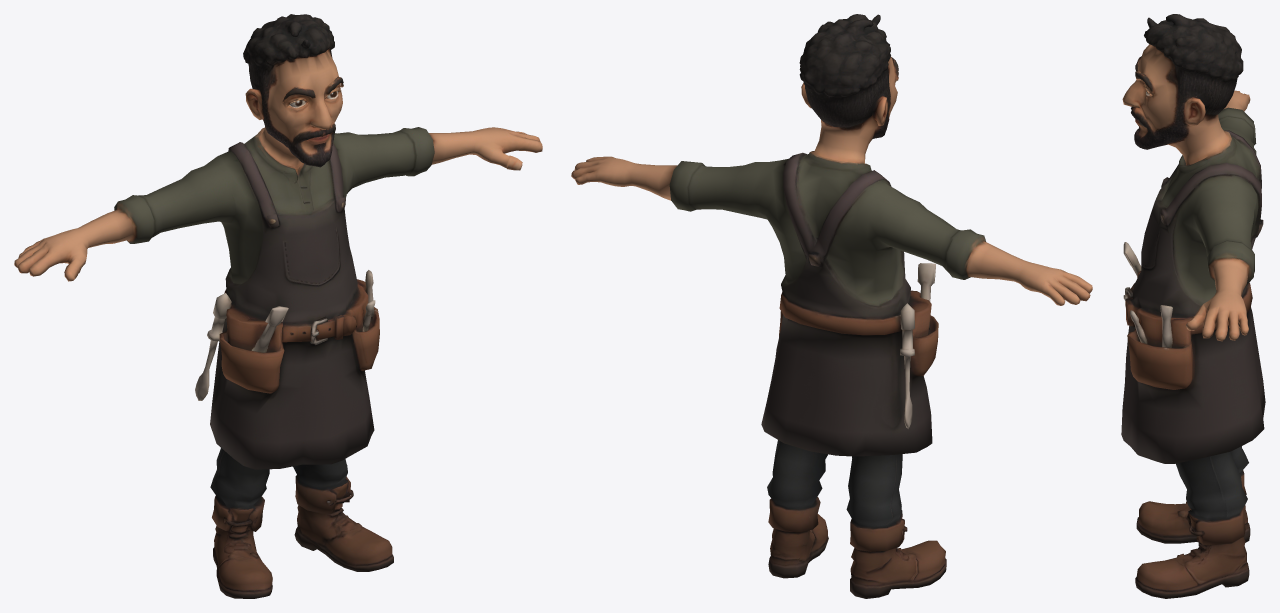
The model's file is creatoravatar-front-wanaka.glb.
3 renders of one model, left to right at view 1: azimuth 30°, elevation 25°; view 2: azimuth 150°, elevation 25°; view 3: azimuth 270°, elevation 25°, orthographic.
Visible parts, largest first — view 1: tripo_node_575d2a14-3aeb-41f9-a97f-0988b154a980; view 2: tripo_node_575d2a14-3aeb-41f9-a97f-0988b154a980; view 3: tripo_node_575d2a14-3aeb-41f9-a97f-0988b154a980.
Part boxes in pixels (x1,y1,x2,y2): tripo_node_575d2a14-3aeb-41f9-a97f-0988b154a980: (14,14,542,598); tripo_node_575d2a14-3aeb-41f9-a97f-0988b154a980: (571,14,1092,598); tripo_node_575d2a14-3aeb-41f9-a97f-0988b154a980: (1121,14,1265,598).
Bounding box in the file's own units: 1.78 × 1.8 × 0.4333.
Materials: 1 (1 with a texture image).
